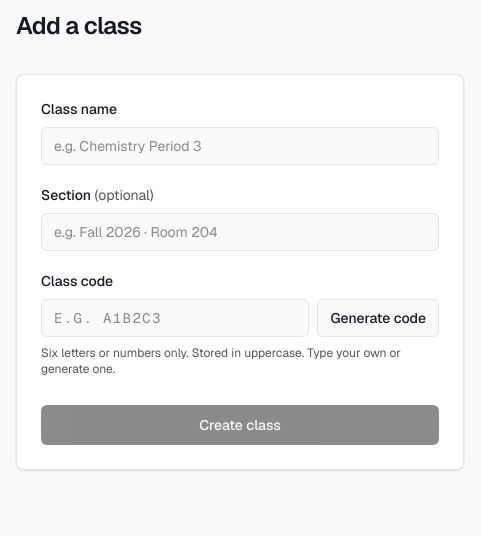
Scenario: create class form › keeps the entered values and shows an accessible error for a duplicate code
In the field labelled "Class name": (240, 146) top-left (41, 127), bottom-right (439, 165), type "Chem 3"
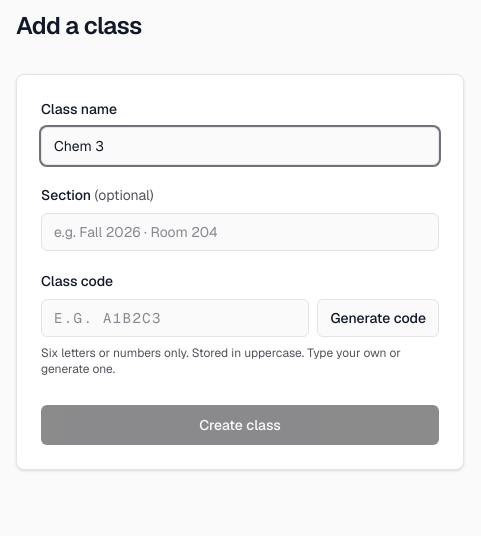
In the field labelled "Section (optional)": (240, 232) top-left (41, 213), bottom-right (439, 251), type "Room 204"
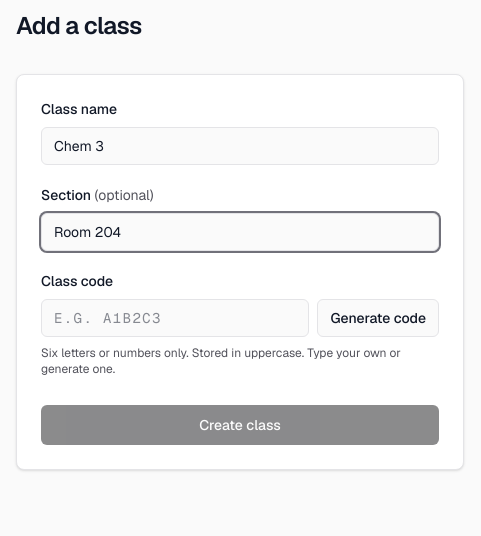
In the field labelled "Class code": (175, 318) top-left (41, 299), bottom-right (309, 337), type "TAKEN1"
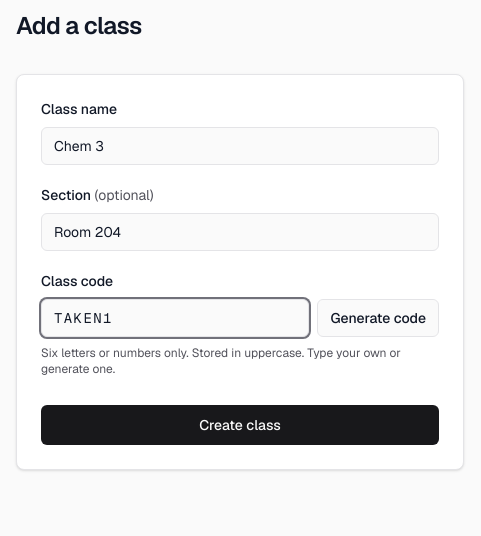
Click the button "Create class": (240, 425) top-left (41, 405), bottom-right (439, 445)
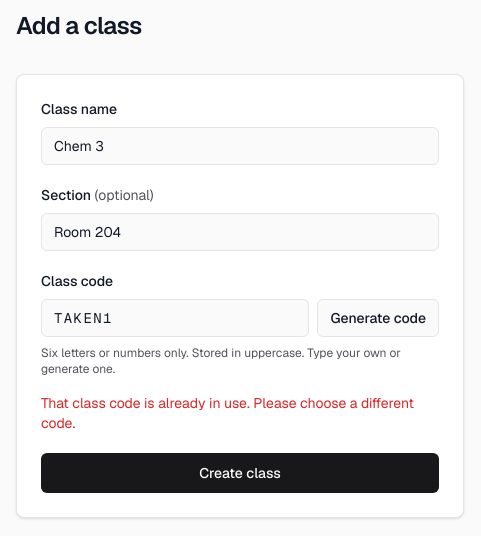
Expected: the message shows "already in use", top-left (41, 394), bottom-right (414, 432)
